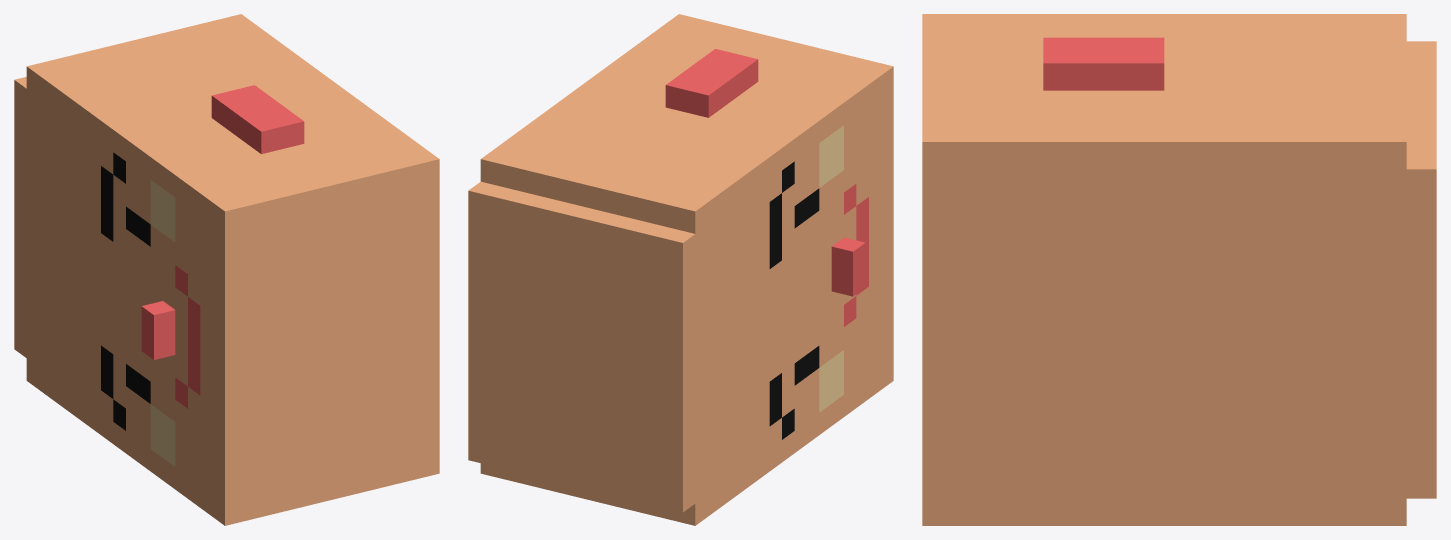
3 renders of one model, left to right at view 1: azimuth 30°, elevation 25°; view 2: azimuth 150°, elevation 25°; view 3: azimuth 270°, elevation 25°, orthographic. The views are drawn at different scales.
Visible parts, largest first — view 1: Face_Base; view 2: Face_Base; view 3: Face_Base.
Boxes of the visible parts, x1,y1,x2,y2 form: Face_Base: (14,14,439,525); Face_Base: (468,14,893,525); Face_Base: (922,14,1436,525).
Bounding box in the file's own units: 1.1 × 1.6 × 1.7.
